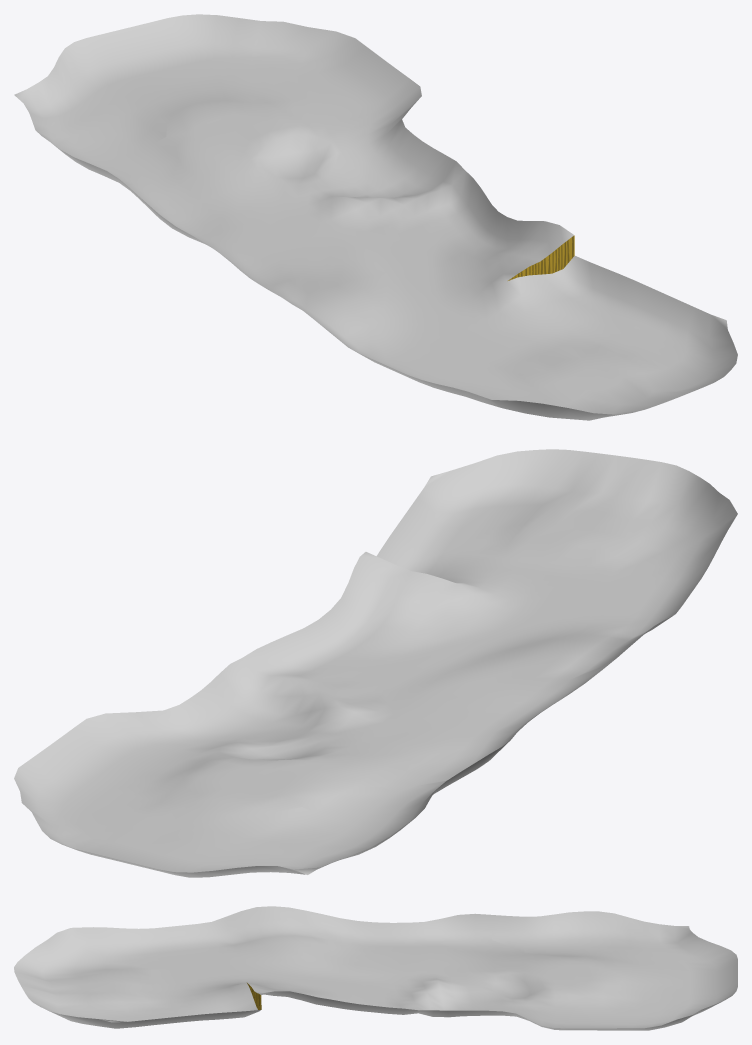
File: Course_Tex_Test 1.FBX
3 renders of one model, top to bottom at view 1: azimuth 30°, elevation 25°; view 2: azimuth 150°, elevation 25°; view 3: azimuth 270°, elevation 25°, orthographic. The views are drawn at different scales.
Parts seen in each view (by area): view 1: polySurface93; view 2: polySurface93; view 3: polySurface93.
Part boxes in pixels (bbox=[...]): polySurface93: bbox=[14, 14, 737, 420]; polySurface93: bbox=[14, 449, 737, 877]; polySurface93: bbox=[14, 906, 737, 1030].
Bounding box in the file's own units: 21.06 × 3.06 × 56.18.
